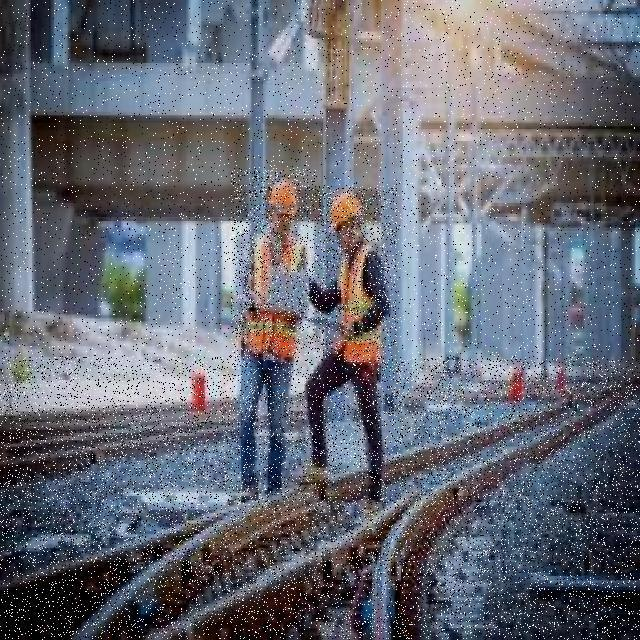danger: (288, 186, 397, 513), (232, 168, 315, 509)
rail: (0, 358, 640, 639)
